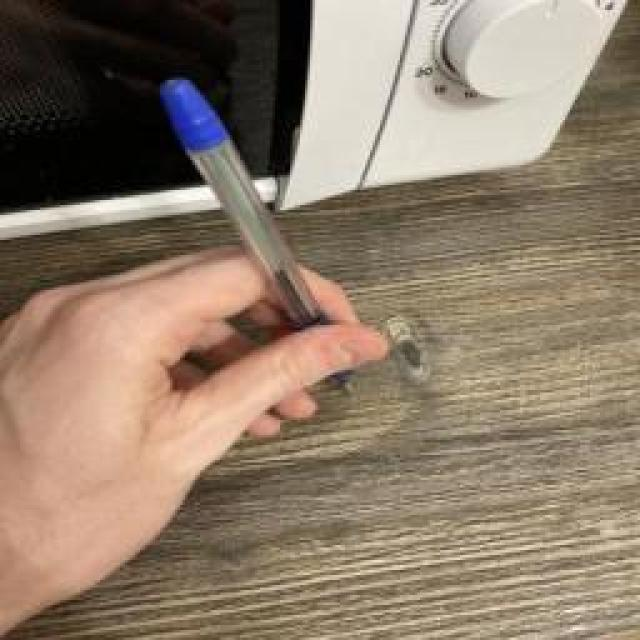pen: (158, 78, 361, 398)
